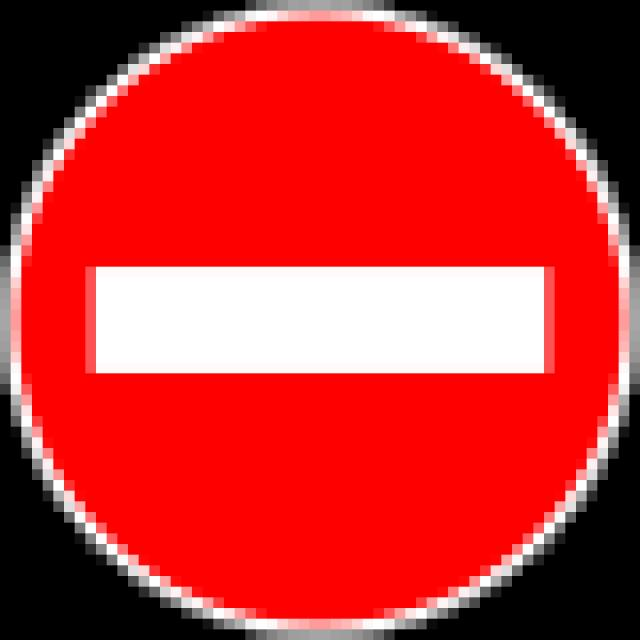forbidden: (0, 0, 629, 640)
